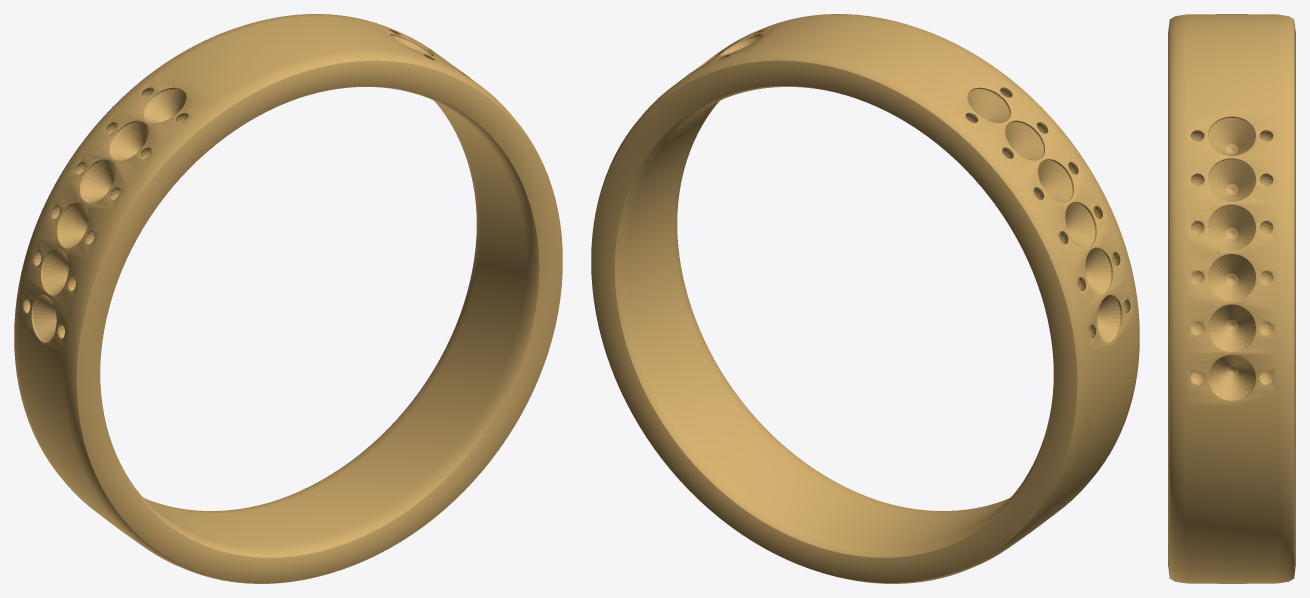
The model's file is wide-scalloped-u-cut.glb.
3 renders of one model, left to right at view 1: azimuth 30°, elevation 25°; view 2: azimuth 150°, elevation 25°; view 3: azimuth 270°, elevation 25°, orthographic.
Visible parts, largest first — view 1: Band; view 2: Band; view 3: Band.
Boxes of the visible parts, bbox=[...] form: Band: bbox=[14, 14, 562, 583]; Band: bbox=[591, 14, 1139, 583]; Band: bbox=[1168, 14, 1295, 583].
Bounding box in the file's own units: 19.6 × 19.6 × 4.4.
